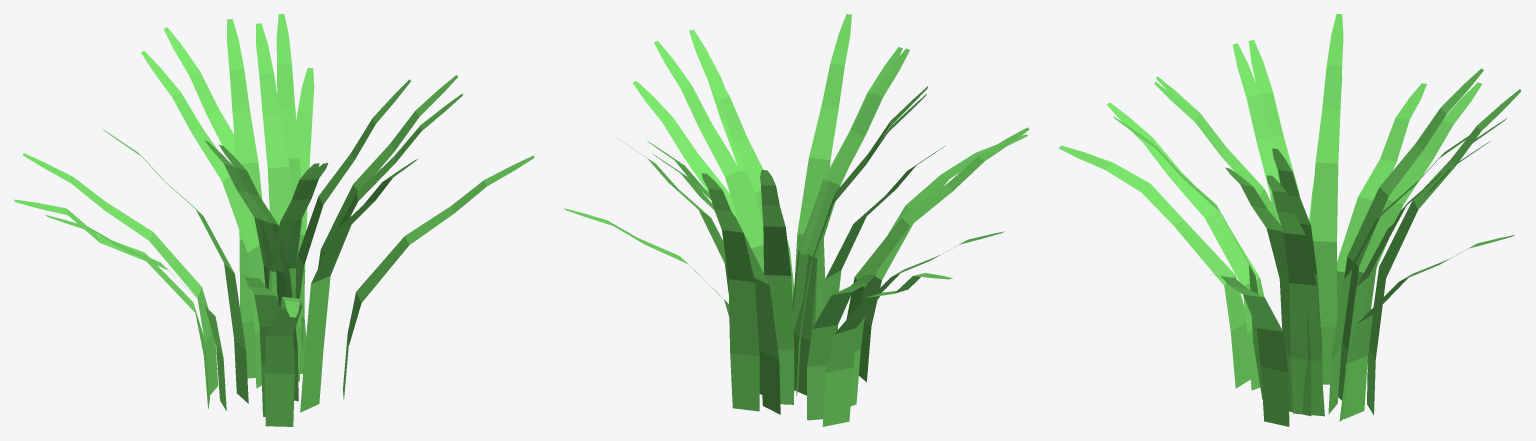
Rendered from ENV_Grass.fbx.
The picture shows the model from 3 angles, left to right: view 1: azimuth 30°, elevation 25°; view 2: azimuth 150°, elevation 25°; view 3: azimuth 270°, elevation 25°; orthographic projection. The views are drawn at different scales.
Visible parts, largest first — view 1: Plane.023; view 2: Plane.023; view 3: Plane.023.
Part boxes in pixels (x1,y1,x2,y2): Plane.023: (14,14,534,426); Plane.023: (563,14,1029,426); Plane.023: (1058,14,1521,426).
Bounding box in the file's own units: 65.74 × 72.28 × 49.44.
